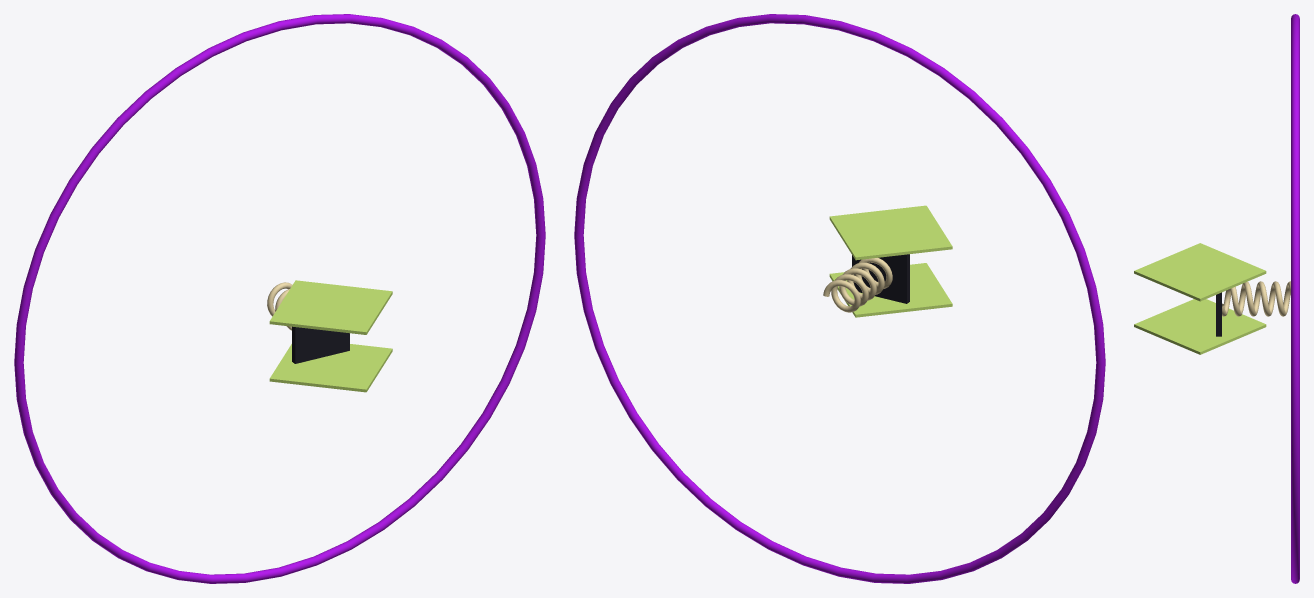
The model's file is leber-lgk-247.glb.
3 views of the same model, side by side, from view 1: azimuth 30°, elevation 25°; view 2: azimuth 150°, elevation 25°; view 3: azimuth 270°, elevation 25° (orthographic). The views are drawn at different scales.
Visible parts, largest first — view 1: BézierCircle, Cube.041, Cube.042, Cube.040; view 2: BézierCircle, Cube.041, Cube.042, Spiral.002, Cube.040; view 3: BézierCircle, Cube.041, Cube.042, Spiral.002, Cube.040.
Boxes of the visible parts, left/top/right/bottom form: BézierCircle: left=14, top=14, right=545, bottom=583; Cube.041: left=269, top=280, right=392, bottom=334; Cube.042: left=269, top=344, right=392, bottom=392; Cube.040: left=292, top=326, right=349, bottom=363; BézierCircle: left=574, top=14, right=1105, bottom=583; Cube.041: left=829, top=205, right=952, bottom=260; Cube.042: left=829, top=263, right=952, bottom=317; Spiral.002: left=823, top=258, right=892, bottom=312; Cube.040: left=852, top=254, right=909, bottom=303; BézierCircle: left=1291, top=14, right=1299, bottom=583; Cube.041: left=1134, top=243, right=1266, bottom=301; Cube.042: left=1134, top=299, right=1266, bottom=354; Spiral.002: left=1222, top=281, right=1290, bottom=316; Cube.040: left=1216, top=292, right=1221, bottom=336.
Bounding box in the file's own units: 3.87 × 3.87 × 1.12.
